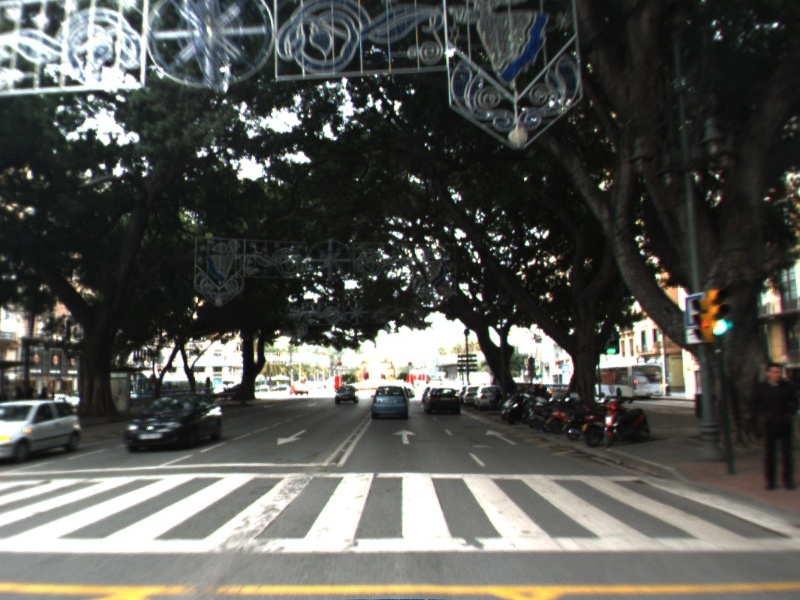STRAIGHT: (483, 427, 519, 447), (391, 427, 418, 446)
